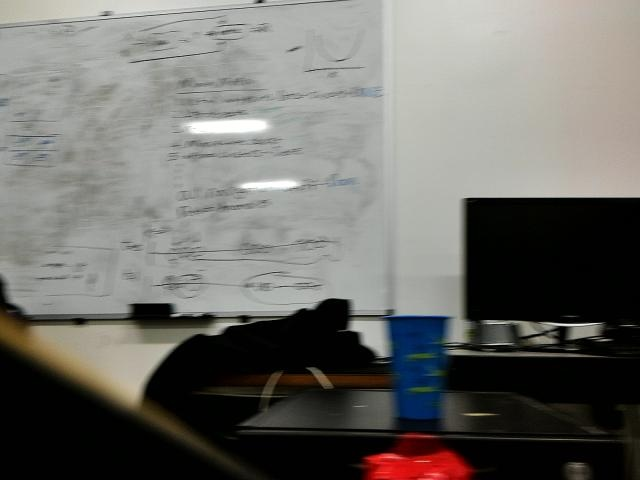water_cup: (382, 310, 451, 424)
